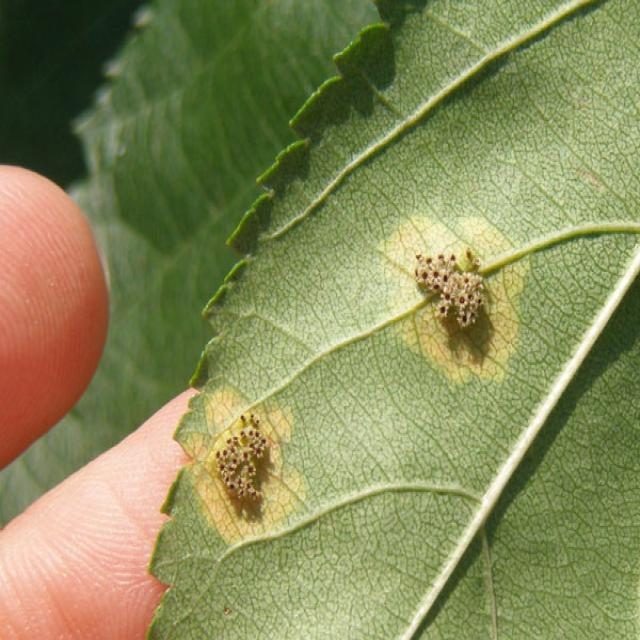Gymnosporangium_Rusts: (160, 231, 527, 526)
